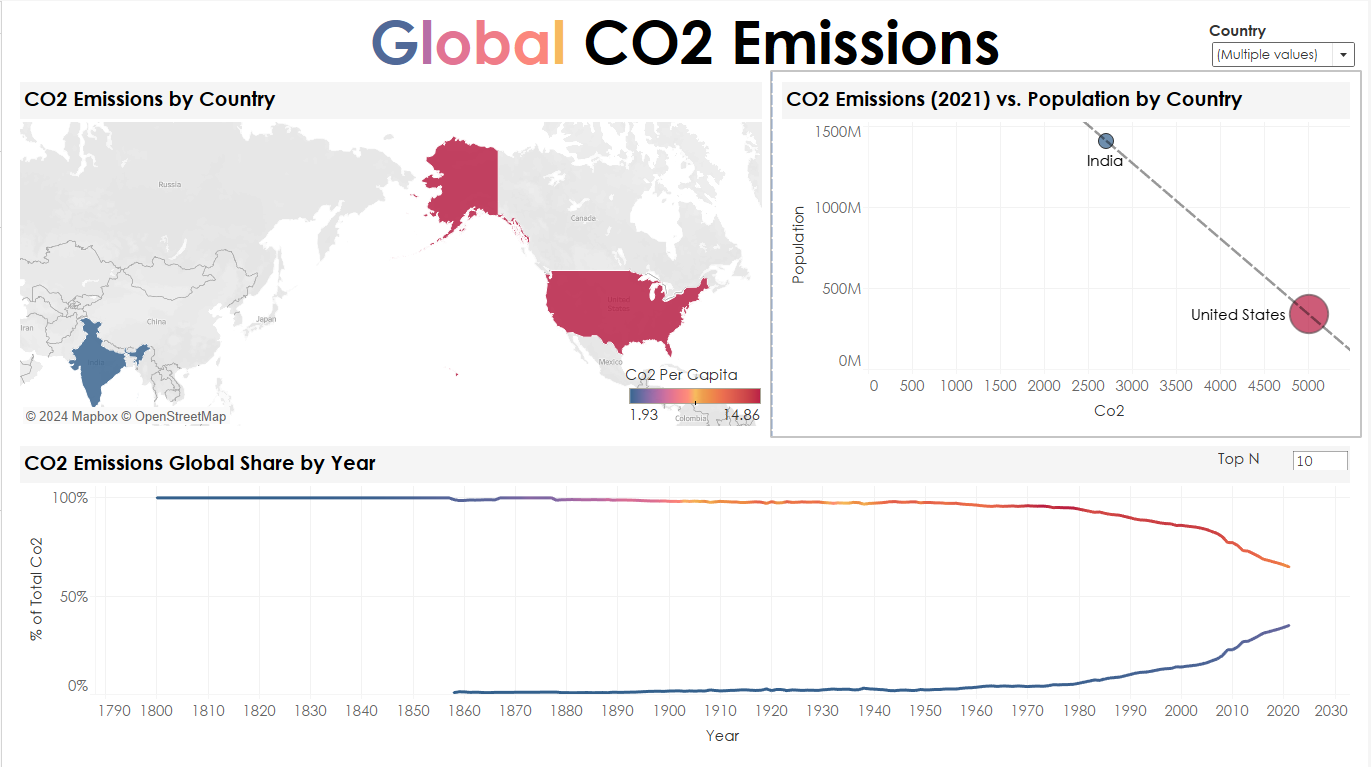

What the dashboard file says about the page in this screenshot:
{"tool":"tableau","page":{"name":"Global CO2 Emissions","canvas":[1366,768],"ordinal":0},"visuals":[{"type":"text","box":[8,8,1350,63.2]},{"type":"filter","title":"Map","param":"[federated.0qpziib1qk9rpu12heb5i0mj1wvz].[none:Country (copy)_124721568004842700","box":[1207,20,149,48]},{"type":"worksheet","title":"Map","mark":"Automatic","box":[8,71.2,762,363.8]},{"type":"worksheet","title":"Scatter Plot","mark":"Circle","rows":["population"],"cols":["co2"],"box":[770,71.2,588,363.8]},{"type":"legend","title":"Map","param":"[federated.0qpziib1qk9rpu12heb5i0mj1wvz].[sum:co2_per_capita:qk]","box":[623,364,140,64]},{"type":"worksheet","title":"Line Chart","mark":"Automatic","cols":["year"],"box":[8,435,1350,325]},{"type":"parameter","param":"[Parameters].[Parameter 1]","box":[1216,447,133,22]}]}

Visuals, with their boxes in screenshot pixels (x1, y1, x2, y2), scaled from the page's 1366x768 canvas onto the 1371x767 screenshot:
text: 8/8/1363/71
"Map" filter: 1211/20/1361/68
"Map" worksheet: 8/71/773/434
"Scatter Plot" worksheet (Circle marks): 773/71/1363/434
"Map" legend: 625/364/766/427
"Line Chart" worksheet: 8/434/1363/759
parameter: 1220/446/1354/468
